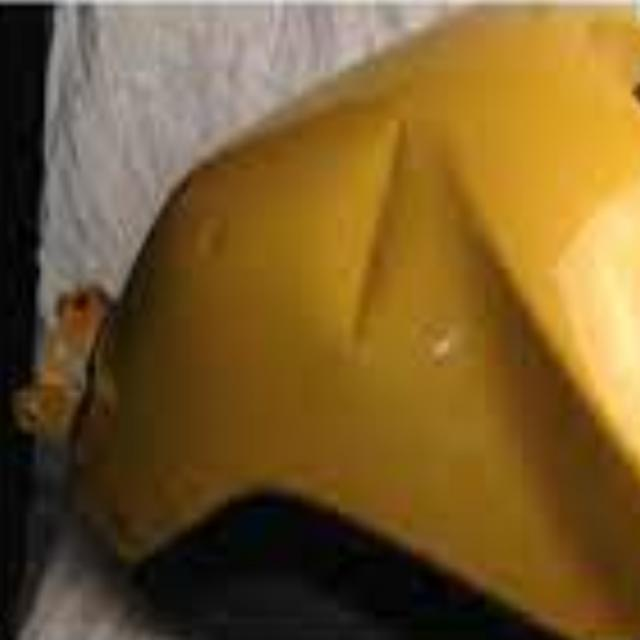dents: (344, 120, 426, 375)
